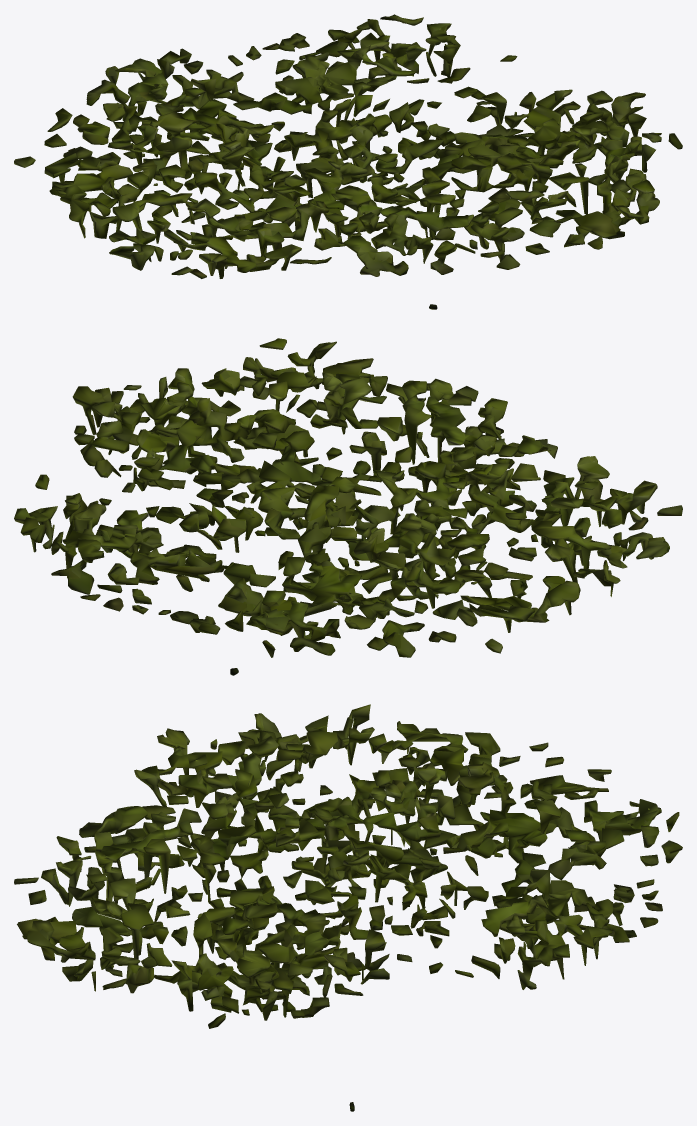
The model's file is moss1.glb.
3 renders of one model, top to bottom at view 1: azimuth 30°, elevation 25°; view 2: azimuth 150°, elevation 25°; view 3: azimuth 270°, elevation 25°, orthographic. The views are drawn at different scales.
Bounding box in the file's own units: 2 × 0.7164 × 1.88.
Materials: 1 (1 with a texture image).
